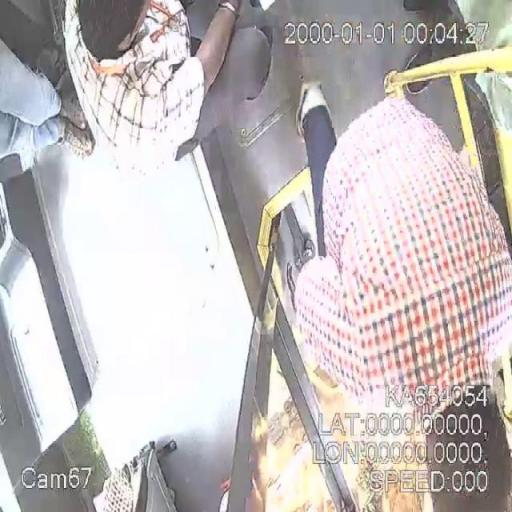persona: (289, 82, 511, 510), (289, 82, 511, 416), (61, 0, 244, 174), (0, 32, 94, 198)
